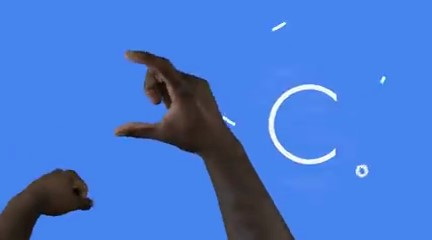C: (103, 42, 245, 171)
